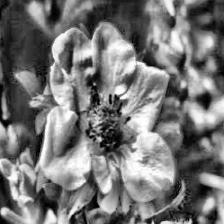Blossom Blight: (74, 83, 140, 160)
